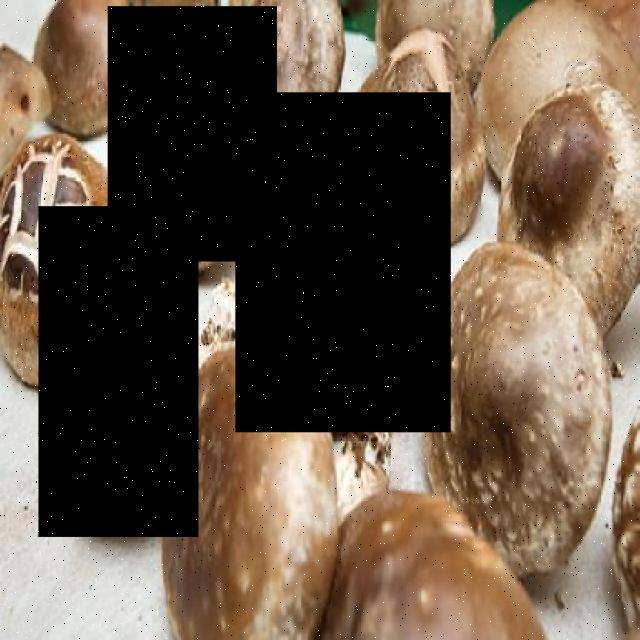Mushroom: (236, 92, 452, 432), (39, 206, 199, 537), (108, 7, 277, 261)
